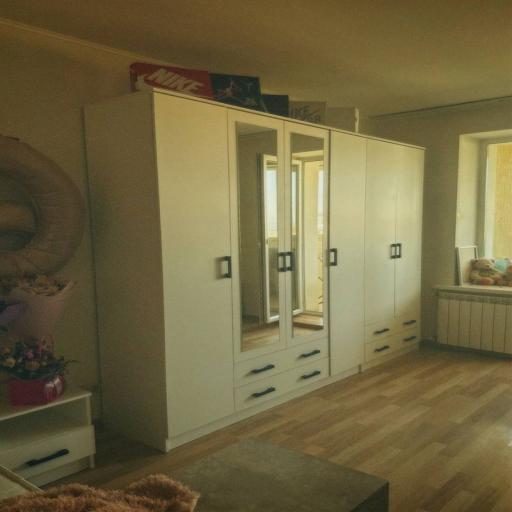car: (85, 92, 424, 451)
